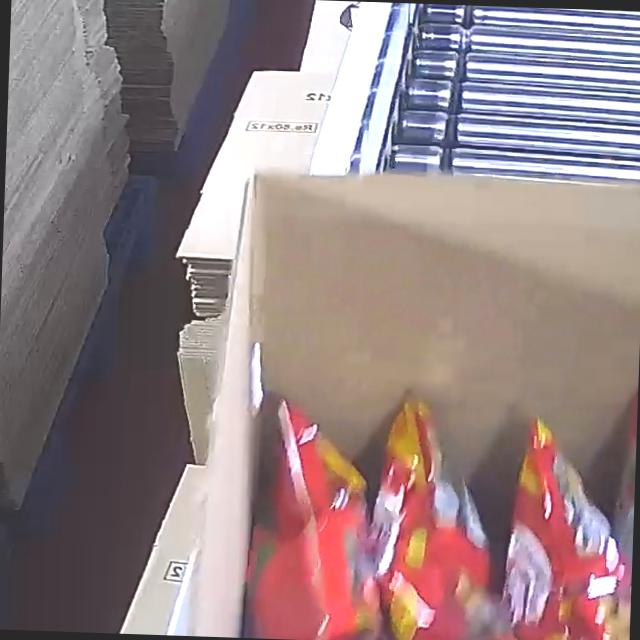masala: (232, 361, 638, 640)
